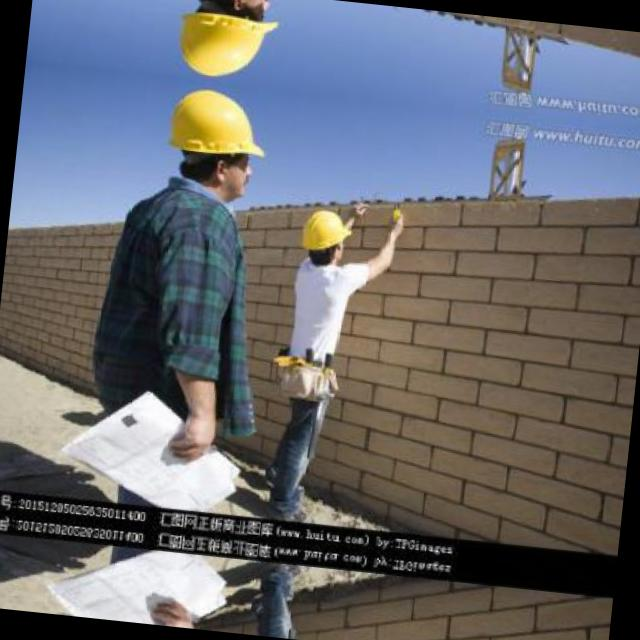helmet: (154, 79, 278, 212), (167, 0, 289, 90), (296, 201, 353, 269)
